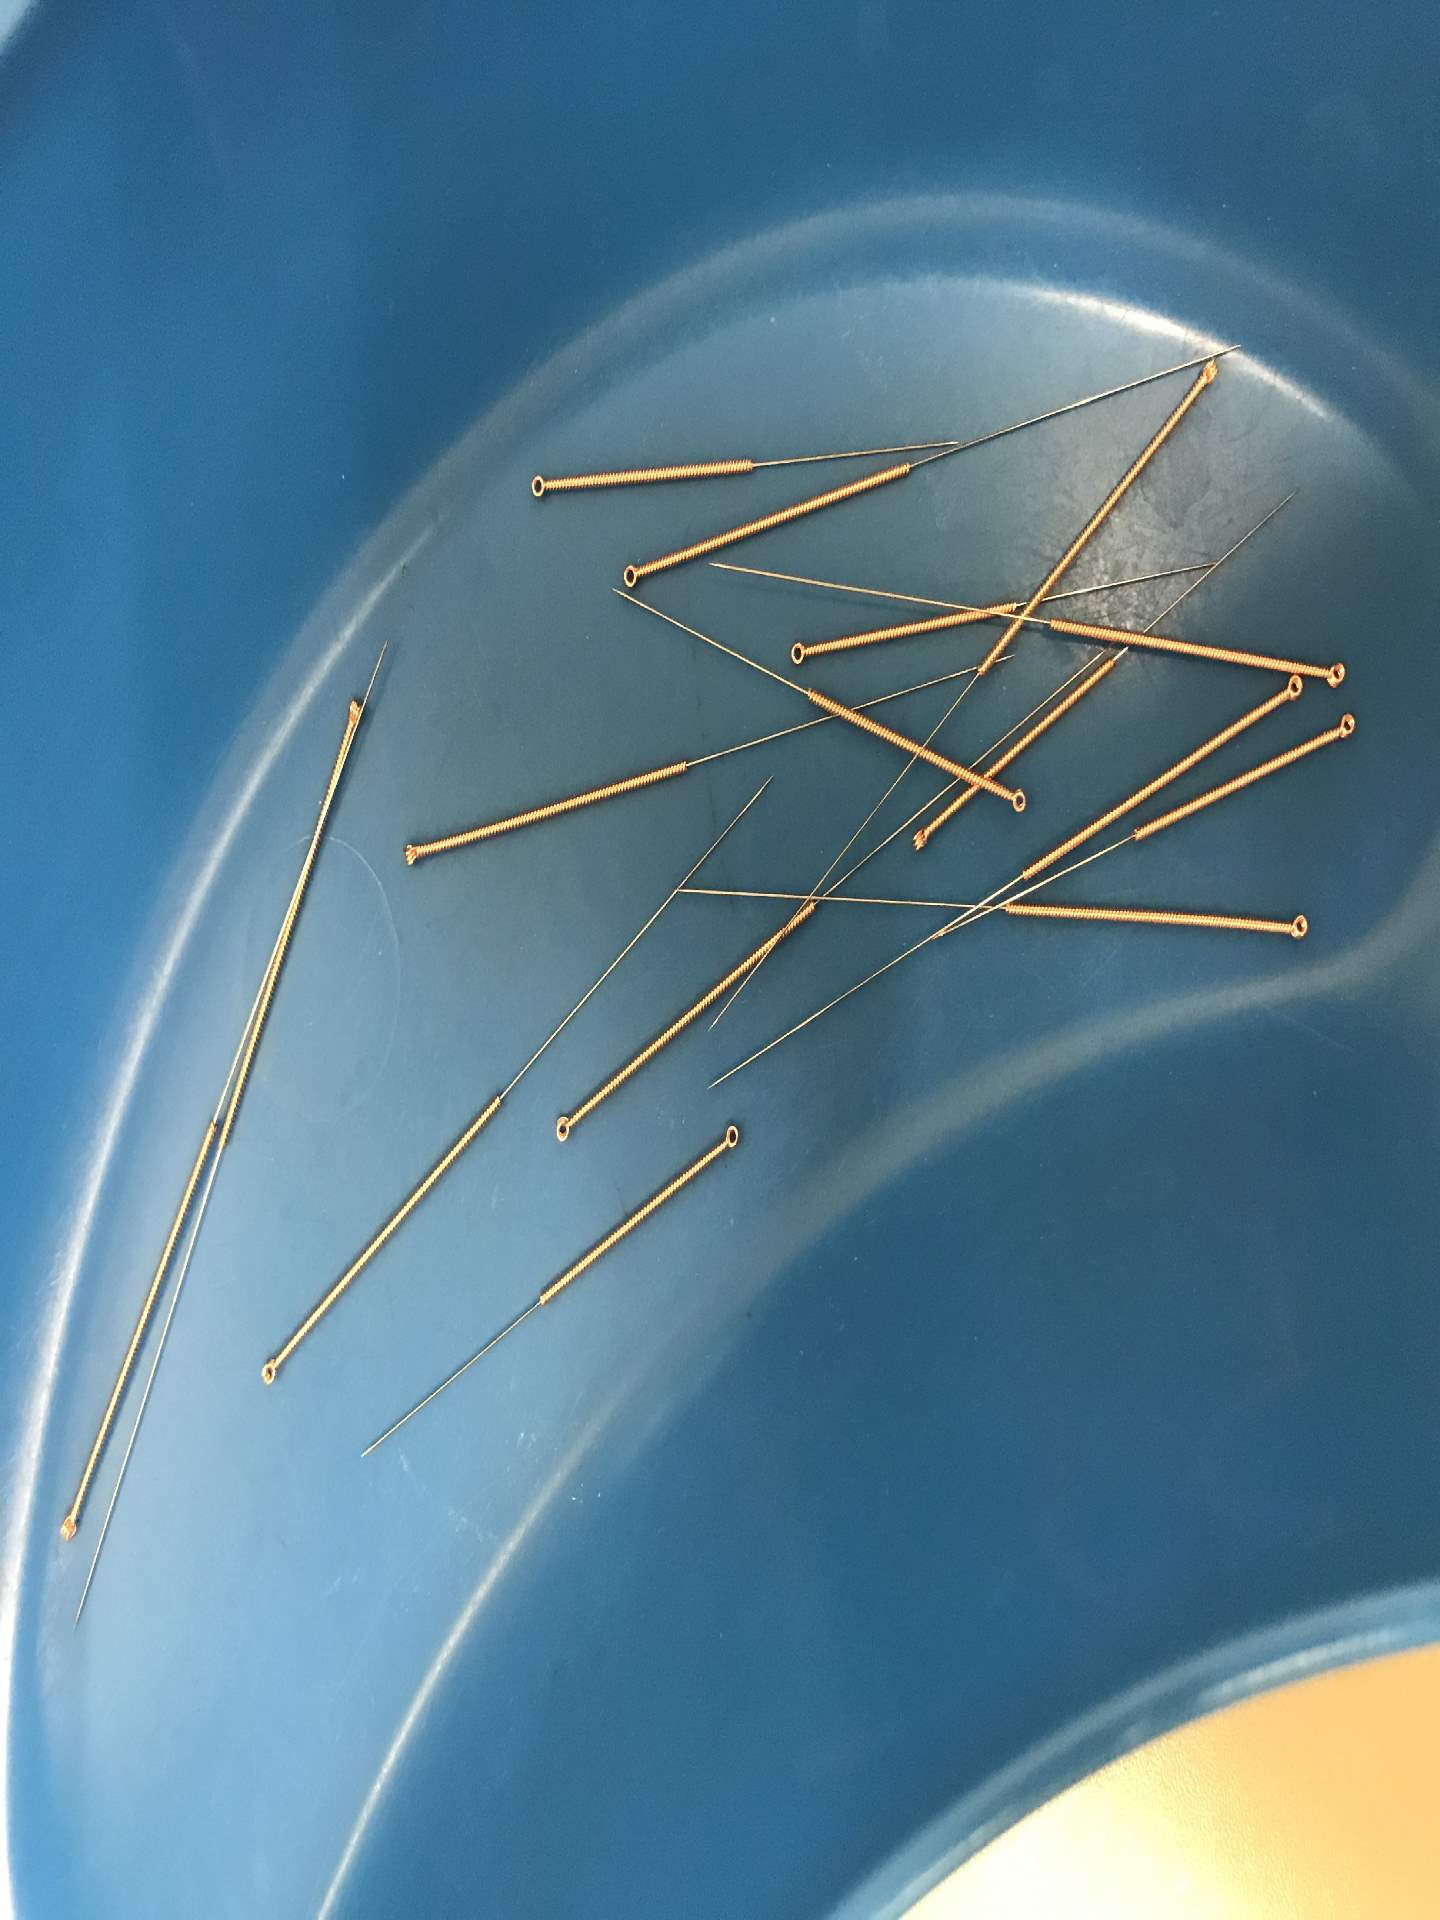needle: (48, 1494, 91, 1553), (545, 1101, 585, 1152), (248, 1347, 290, 1395), (709, 1113, 750, 1160), (1327, 705, 1364, 748), (782, 632, 821, 673), (1275, 909, 1314, 949), (1314, 655, 1354, 695), (336, 691, 371, 736), (1190, 352, 1227, 395), (392, 835, 431, 872), (522, 466, 560, 505), (613, 555, 649, 596), (1272, 667, 1308, 705), (998, 782, 1033, 819), (905, 819, 939, 857)
